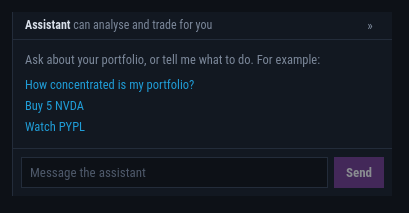
Scenario: ChatPanel › collapses and expands
This screenshot has width=409, height=213.
Click the button with test id "chat-toggle". click: (370, 26)
box: [360,16,380,36]
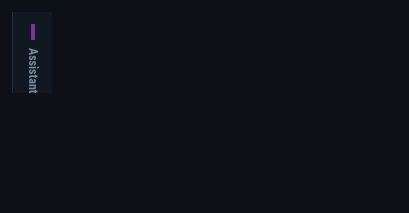
Check: the field with test id "chat-input" is gone
Click the button with test id "chat-toggle". click: (32, 53)
box: [13,12,52,94]
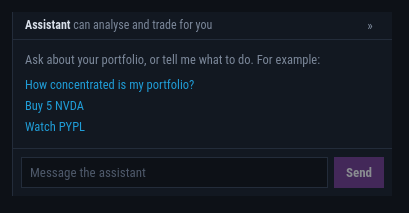
Check: the field with test id "chat-input" is shown, box [21,156,328,188]
